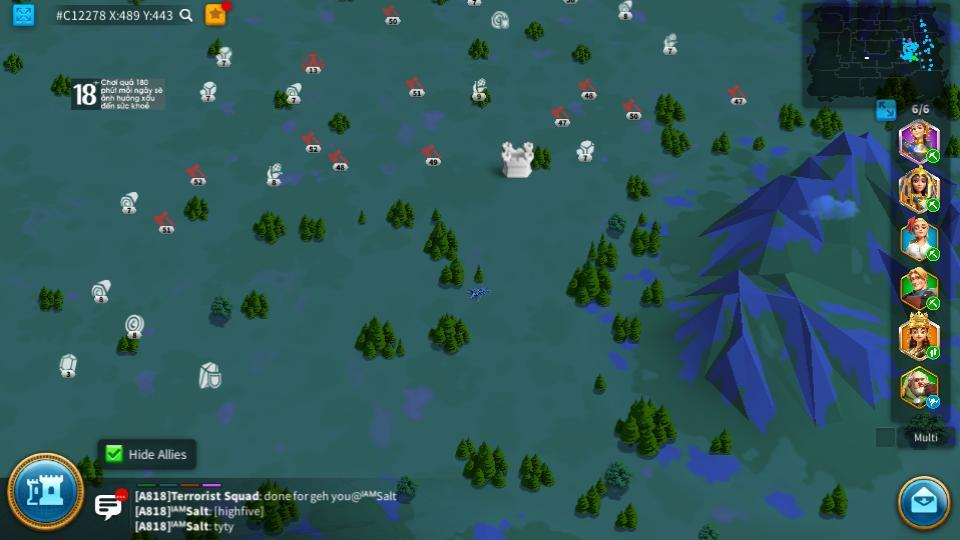gem-z-out: (57, 353, 77, 376)
march_idle: (925, 396, 942, 408)
march_marching: (925, 197, 941, 212), (924, 248, 942, 260), (925, 347, 941, 359), (925, 150, 941, 162), (925, 297, 942, 308)
